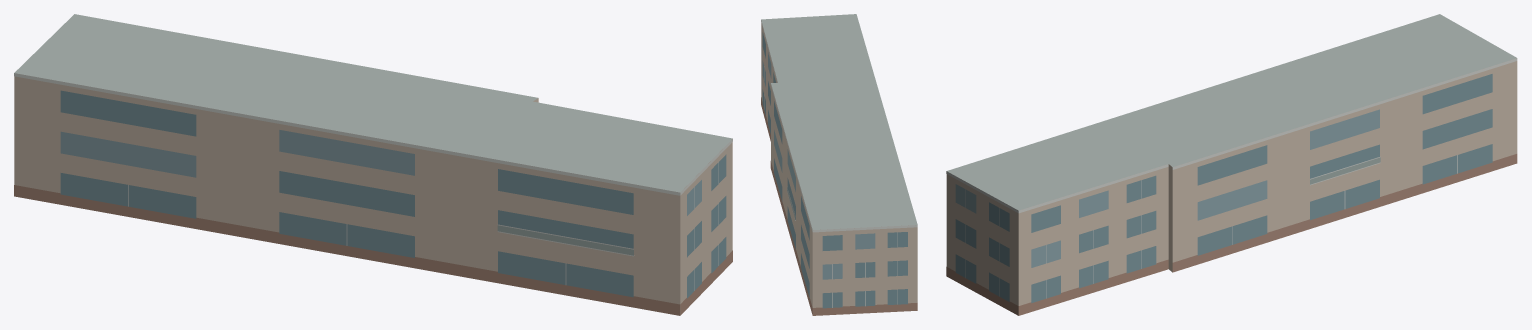
File: survey-upis-32585400.glb
The picture shows the model from 3 angles, left to right: view 1: azimuth 30°, elevation 25°; view 2: azimuth 150°, elevation 25°; view 3: azimuth 270°, elevation 25°; orthographic projection. The views are drawn at different scales.
Visible parts, largest first — view 1: survey-upis-32585400.tmp; view 2: survey-upis-32585400.tmp; view 3: survey-upis-32585400.tmp.
Boxes of the visible parts, x1,y1,x2,y2 form: survey-upis-32585400.tmp: [14, 14, 732, 315]; survey-upis-32585400.tmp: [761, 14, 917, 315]; survey-upis-32585400.tmp: [946, 14, 1517, 315].
Size of the model in its own units: 36.63 by 9.15 by 44.95.
